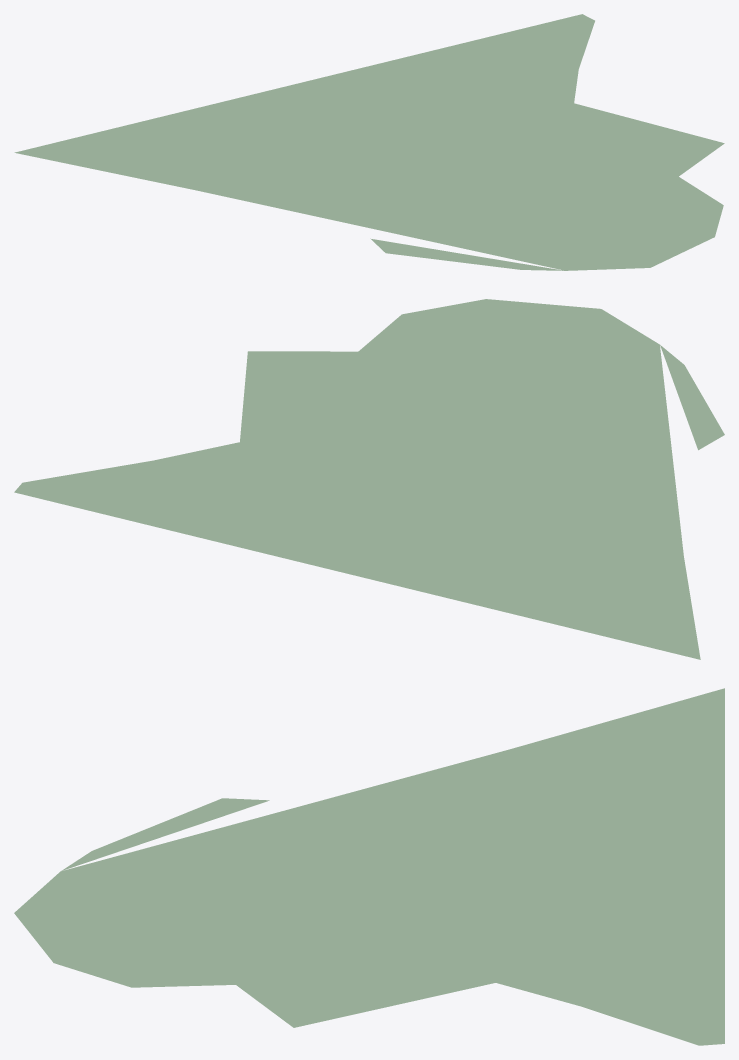
File: 93_111_mid.glb
The picture shows the model from 3 angles, top to bottom: view 1: azimuth 30°, elevation 25°; view 2: azimuth 150°, elevation 25°; view 3: azimuth 270°, elevation 25°; orthographic projection. The views are drawn at different scales.
Size of the model in its own units: 302 by 0 by 254.
